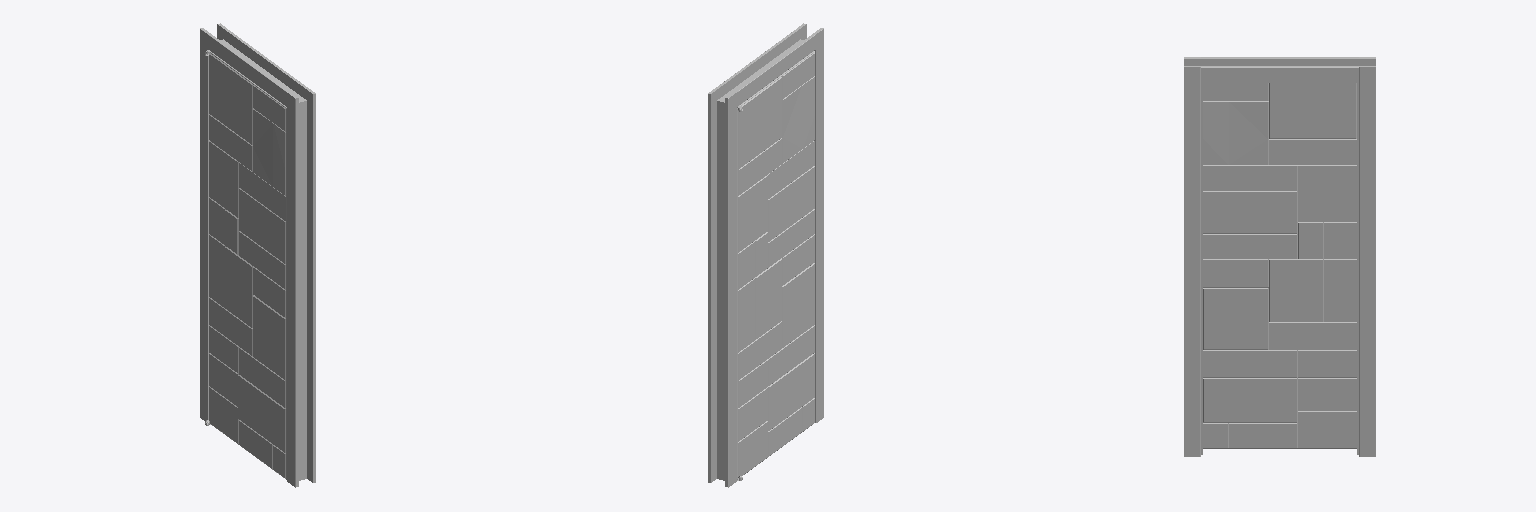
File: doors.obj
3 views of the same model, side by side, from view 1: azimuth 30°, elevation 25°; view 2: azimuth 150°, elevation 25°; view 3: azimuth 270°, elevation 25° (orthographic).
Parts seen in each view (by area): view 1: polotno, nalichnik_korobka; view 2: polotno, nalichnik_korobka; view 3: polotno, nalichnik_korobka.
Part boxes in pixels (bbox=[...]): polotno: bbox=[209, 52, 286, 479]; nalichnik_korobka: bbox=[200, 23, 315, 487]; polotno: bbox=[737, 51, 814, 479]; nalichnik_korobka: bbox=[708, 23, 823, 487]; polotno: bbox=[1203, 83, 1356, 448]; nalichnik_korobka: bbox=[1184, 57, 1375, 456].
Size of the model in its own units: 0.145 by 2.19 by 0.9804.